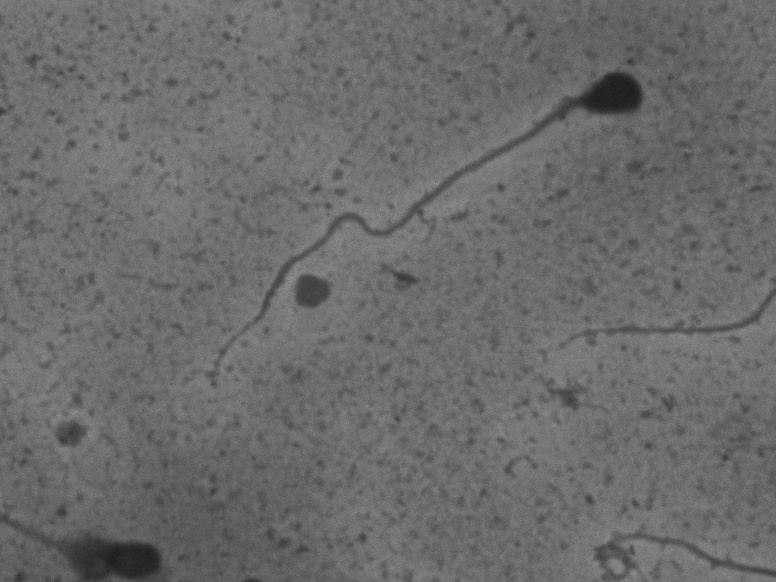Abnormal: (189, 53, 650, 401)
